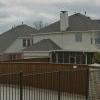Chimney: (56, 6, 74, 34)
